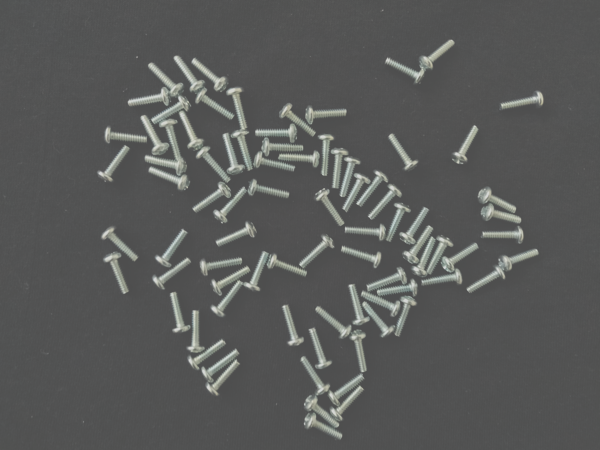shortscrew: (147, 62, 186, 100), (174, 54, 207, 98), (102, 226, 140, 263), (154, 229, 189, 269), (205, 360, 241, 398), (196, 145, 232, 183), (96, 145, 131, 184), (201, 350, 240, 384), (191, 58, 230, 92), (278, 103, 317, 137), (152, 258, 192, 291), (368, 183, 403, 220), (213, 186, 247, 224), (314, 306, 353, 339), (187, 339, 226, 372), (403, 225, 434, 266), (300, 233, 335, 269), (362, 302, 396, 339), (328, 373, 365, 407), (330, 386, 364, 423), (441, 243, 480, 275), (388, 133, 419, 173), (211, 266, 251, 297), (102, 251, 130, 295), (140, 116, 170, 157), (211, 281, 244, 318), (356, 170, 389, 207), (314, 188, 346, 226), (466, 264, 506, 294), (419, 40, 456, 72), (193, 183, 231, 214), (217, 221, 259, 249), (302, 357, 331, 397), (304, 396, 341, 427), (384, 58, 426, 85), (452, 123, 479, 165), (478, 186, 518, 214), (343, 172, 371, 212), (309, 328, 335, 371), (148, 167, 191, 193), (428, 234, 455, 275), (400, 207, 429, 245), (361, 290, 401, 317), (222, 133, 247, 176), (410, 238, 436, 279), (304, 414, 343, 441), (498, 248, 540, 273), (158, 118, 183, 160), (178, 111, 204, 151), (103, 126, 148, 149), (281, 305, 305, 348), (267, 253, 308, 278), (244, 251, 269, 292), (394, 296, 418, 338), (501, 91, 546, 113), (246, 179, 291, 201), (226, 86, 249, 129), (253, 151, 296, 174), (348, 284, 371, 326), (366, 267, 408, 290), (421, 268, 464, 290), (169, 292, 191, 335), (145, 154, 188, 176), (340, 156, 362, 198), (388, 203, 411, 243), (200, 256, 243, 277), (342, 246, 383, 268), (232, 130, 254, 171), (127, 88, 172, 108), (482, 203, 522, 225), (349, 330, 369, 373), (186, 311, 206, 354), (262, 138, 305, 158), (255, 124, 299, 143), (482, 225, 525, 244), (344, 224, 387, 243), (377, 277, 419, 296), (305, 105, 347, 124), (278, 151, 321, 169), (331, 148, 349, 189), (318, 133, 333, 176)
